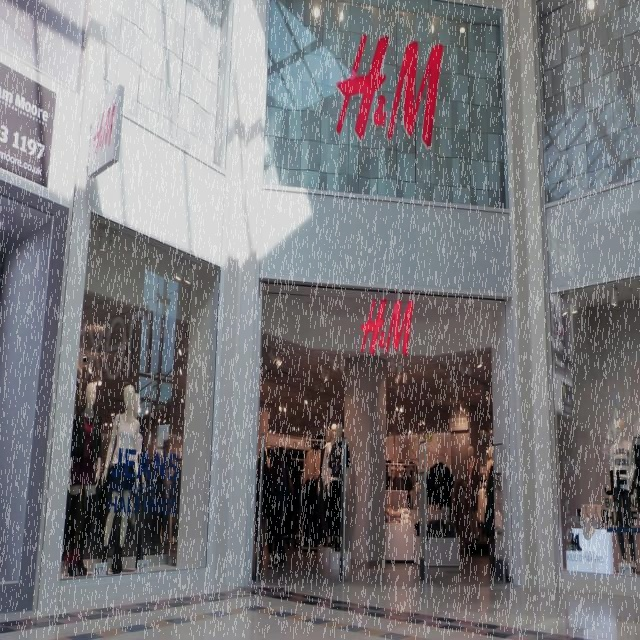pessoa: (60, 374, 150, 583), (319, 420, 351, 550), (610, 418, 636, 576), (466, 445, 496, 548), (266, 450, 285, 569), (254, 447, 270, 563), (276, 445, 294, 491), (392, 464, 410, 490)
